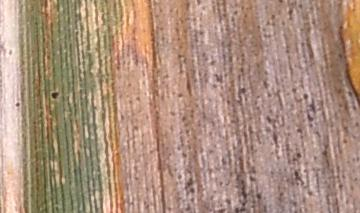tarspot: (49, 88, 61, 100), (6, 47, 15, 57), (14, 100, 22, 109)
